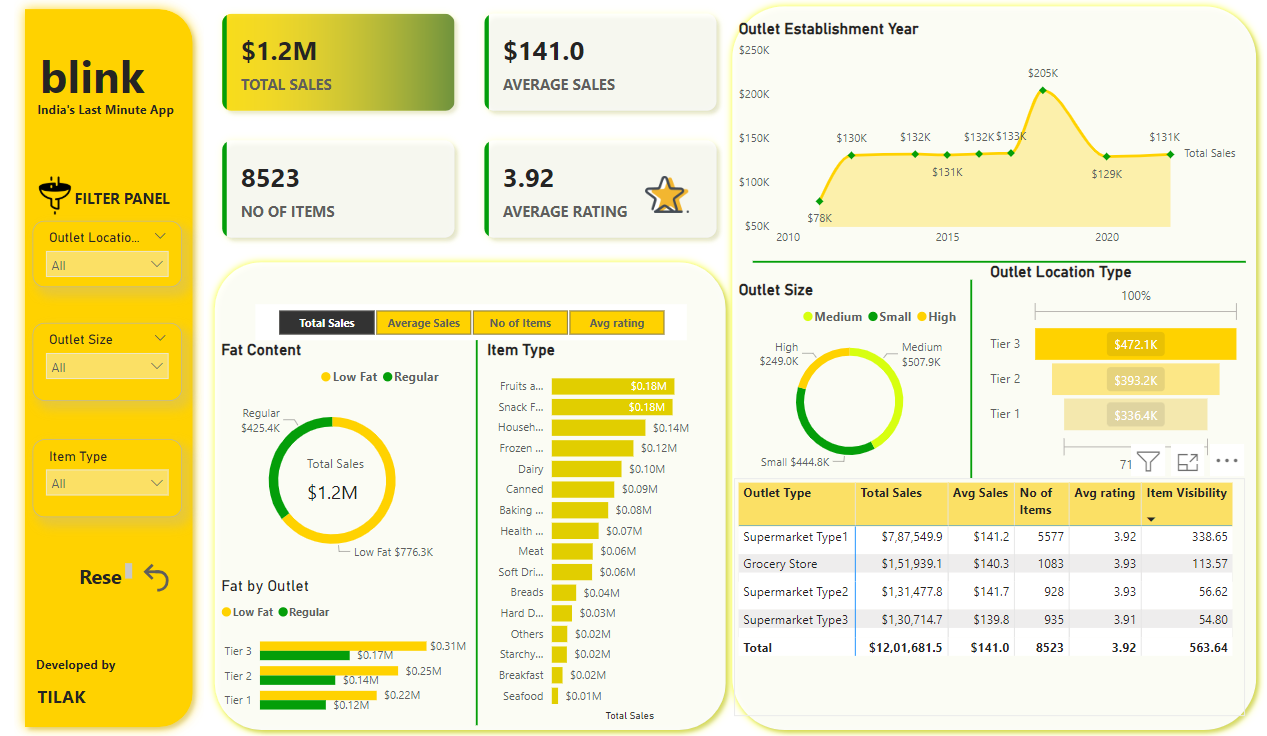

Layout of this report page (visuals, bound fields, positions):
{"tool":"powerbi","page":{"name":"Page 1","canvas":[1400,800],"ordinal":0},"visuals":[{"type":"shape","box":[27.5,0,205.1,799.4],"z":0},{"type":"textbox","box":[51.2,46.6,158.4,77.6],"z":1000},{"type":"cardVisual","fields":{"Data":["BlinkIT Grocery Data.Total Sales","BlinkIT Grocery Data.Average Sales","BlinkIT Grocery Data.No of Items","BlinkIT Grocery Data.Avg rating"]},"box":[236,0,569.9,276.4],"z":2000},{"type":"textbox","box":[48.1,105.6,172.4,35.7],"z":3000},{"type":"shape","box":[236,276.4,569.9,523.3],"z":4000},{"type":"donutChart","title":"Fat Content","fields":{"Y":["BlinkIT Grocery Data.Total Sales"],"Category":["BlinkIT Grocery Data.Item Fat Content"]},"box":[246.9,369.6,250,254.7],"z":5000},{"type":"slicer","fields":{"Values":["Metrics.Metrics"]},"box":[288.8,330.8,465.9,38.8],"z":6000},{"type":"cardVisual","fields":{"Data":["BlinkIT Grocery Data.Total Sales"]},"box":[327.7,476.7,118,82.3],"z":7000},{"type":"clusteredBarChart","title":"Fat by Outlet","fields":{"Y":["BlinkIT Grocery Data.Total Sales"],"Category":["BlinkIT Grocery Data.Outlet Location Type"],"Series":["BlinkIT Grocery Data.Item Fat Content"]},"box":[246.9,624.2,274.9,161.5],"z":8000},{"type":"barChart","title":"Item Type","fields":{"Y":["BlinkIT Grocery Data.Total Sales"],"Category":["BlinkIT Grocery Data.Item Type"]},"box":[534.2,369.6,248.5,416.2],"z":9000},{"type":"shape","box":[521.8,369.6,12.4,416.2],"z":10000},{"type":"shape","box":[795.1,0,583.9,799.7],"z":11000},{"type":"lineChart","title":"Outlet Establishment Year","fields":{"Category":["BlinkIT Grocery Data.Outlet Establishment Year"],"Y":["BlinkIT Grocery Data.Total Sales"]},"box":[805.9,23.3,552.8,253.1],"z":12000},{"type":"shape","box":[826.1,276.4,532.6,17.1],"z":13000},{"type":"donutChart","title":"Outlet Size","fields":{"Y":["BlinkIT Grocery Data.Total Sales"],"Category":["BlinkIT Grocery Data.Outlet Size"]},"box":[805.9,304.4,250,214.3],"z":14000},{"type":"shape","box":[1055.9,304.4,12.4,214.3],"z":15000},{"type":"funnel","title":"Outlet Location Type","fields":{"Category":["BlinkIT Grocery Data.Outlet Location Type"],"Y":["BlinkIT Grocery Data.Total Sales"]},"box":[1077.7,285.7,281.1,232.9],"z":16000},{"type":"pivotTable","fields":{"Rows":["BlinkIT Grocery Data.Outlet Type"],"Values":["BlinkIT Grocery Data.Total Sales","BlinkIT Grocery Data.Average Sales","BlinkIT Grocery Data.No of Items","BlinkIT Grocery Data.Avg rating","Sum(BlinkIT Grocery Data.Item Visibility)"]},"box":[805.9,518.7,552.8,256.2],"z":17000},{"type":"slicer","fields":{"Values":["BlinkIT Grocery Data.Outlet Location Type"]},"box":[48.1,240.7,161.5,71.4],"z":18000},{"type":"slicer","fields":{"Values":["BlinkIT Grocery Data.Outlet Size"]},"box":[48.1,350.9,161.5,83.9],"z":19000},{"type":"slicer","fields":{"Values":["BlinkIT Grocery Data.Item Type"]},"box":[48.1,476.7,161.5,83.9],"z":20000},{"type":"actionButton","box":[161.5,605.6,48.5,40.4],"z":21000},{"type":"textbox","box":[93.7,605.6,67.8,40.4],"z":22000},{"type":"textbox","box":[46.8,705.8,121.1,40.4],"z":23000},{"type":"textbox","box":[48.5,736.5,85.6,38.8],"z":24000},{"type":"textbox","box":[88.8,200.3,121.1,40.4],"z":25000},{"type":"image","box":[46.8,185.7,51.7,54.9],"z":26000}]}

Visuals, with their boxes in screenshot pixels (x1, y1, x2, y2), scaled from the page's 1400x800 canvas onto the 1267x736 screenshot:
shape: 25 0 211 735
textbox: 46 43 190 114
cardVisual - BlinkIT Grocery Data.Total Sales x BlinkIT Grocery Data.Average Sales: 214 0 729 254
textbox: 44 97 200 130
shape: 214 254 729 735
"Fat Content" donutChart: 223 340 450 574
slicer - Metrics.Metrics: 261 304 683 340
cardVisual - BlinkIT Grocery Data.Total Sales: 297 439 403 514
"Fat by Outlet" clusteredBarChart: 223 574 472 723
"Item Type" barChart: 483 340 708 723
shape: 472 340 483 723
shape: 720 0 1248 735
"Outlet Establishment Year" lineChart: 729 21 1230 254
shape: 748 254 1230 270
"Outlet Size" donutChart: 729 280 956 477
shape: 956 280 967 477
"Outlet Location Type" funnel: 975 263 1230 477
pivotTable - BlinkIT Grocery Data.Outlet Type x BlinkIT Grocery Data.Total Sales: 729 477 1230 713
slicer - BlinkIT Grocery Data.Outlet Location Type: 44 221 190 287
slicer - BlinkIT Grocery Data.Outlet Size: 44 323 190 400
slicer - BlinkIT Grocery Data.Item Type: 44 439 190 516
actionButton: 146 557 190 594
textbox: 85 557 146 594
textbox: 42 649 152 687
textbox: 44 678 121 713
textbox: 80 184 190 221
image: 42 171 89 221
